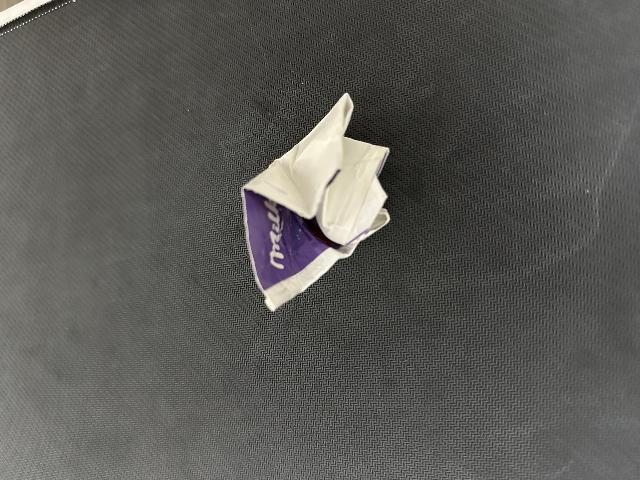Kagit: (241, 91, 391, 312)
